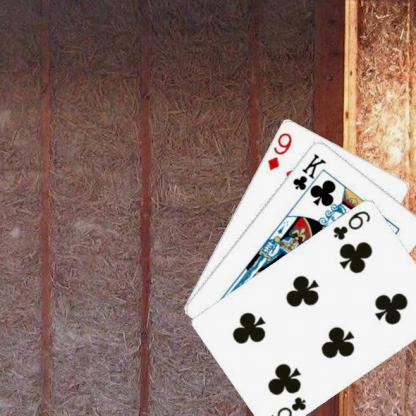6C: (330, 208, 372, 242), (267, 393, 308, 416)
9D: (264, 129, 294, 171)
KC: (290, 150, 327, 200)
